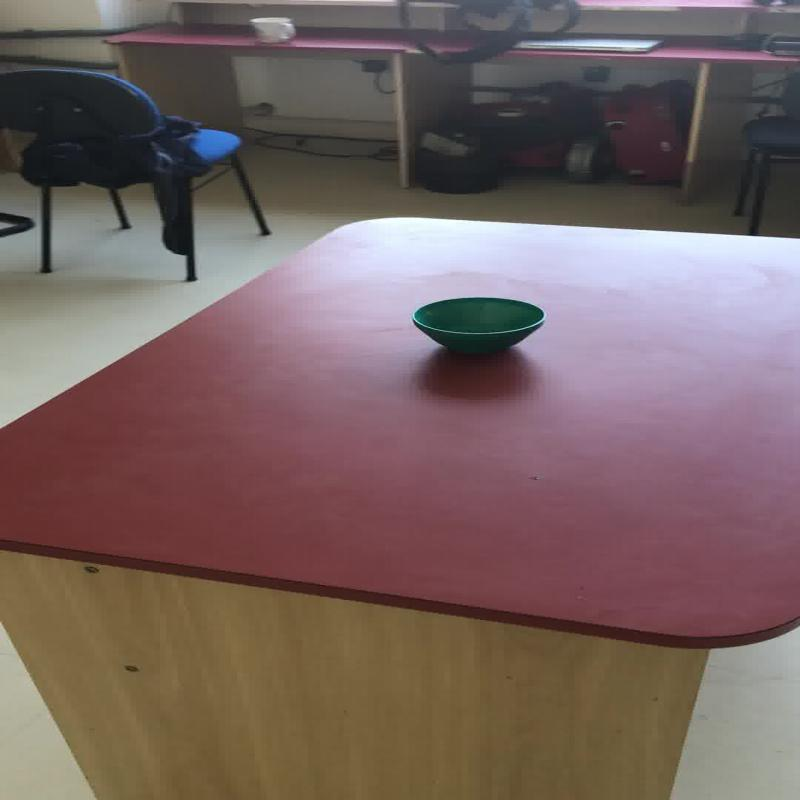bowl: (409, 295, 545, 354)
